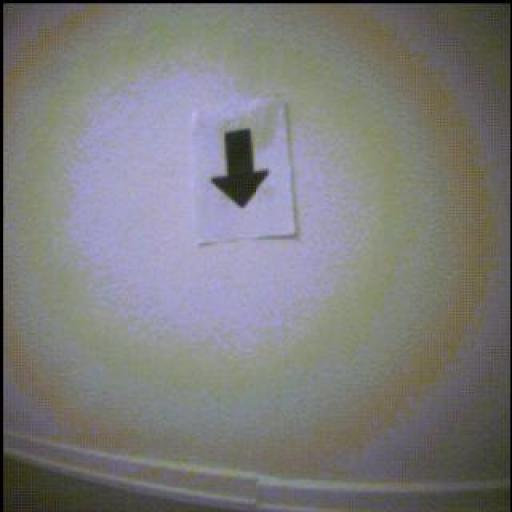Arrow: (212, 131, 270, 209)
